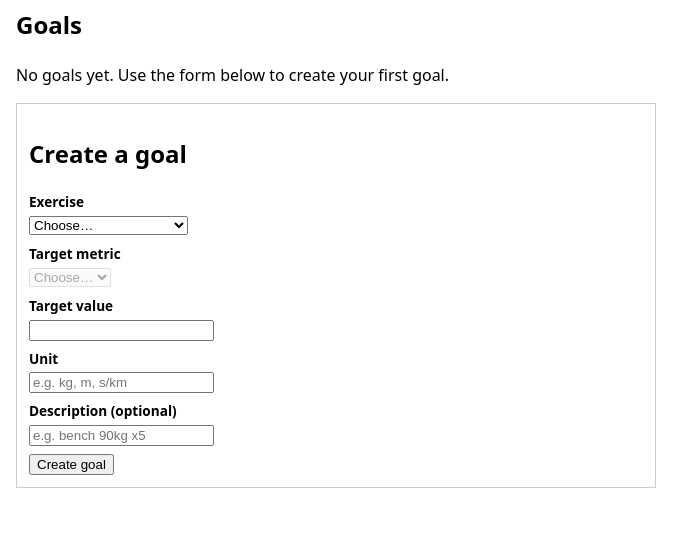
Test: a failed create shows an error and preserves the entered values
The image size is (673, 553).
Expected: the text "No goals yet. Use the form below to create your first goal." is shown, [16,64,449,86]
Select "Bench Press (strength)" in the dropdown labelled "Exercise" at (108, 226), box [29,216,188,235]
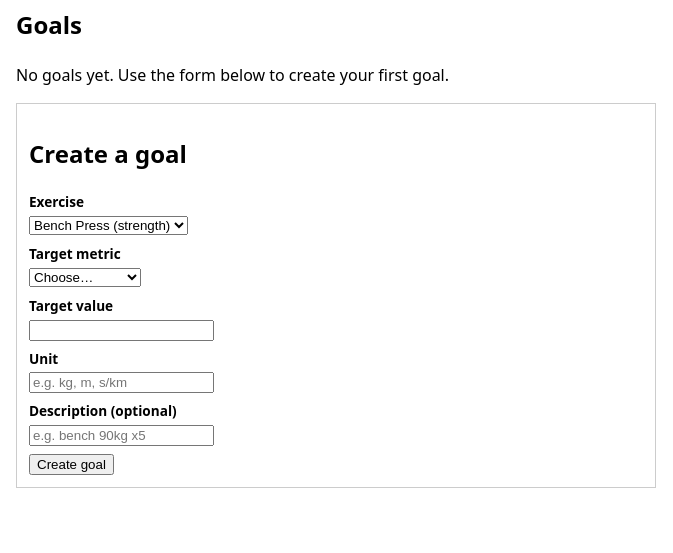
Select "reps" in the dropdown labelled "Target metric" at (85, 278), box [29,268,141,287]
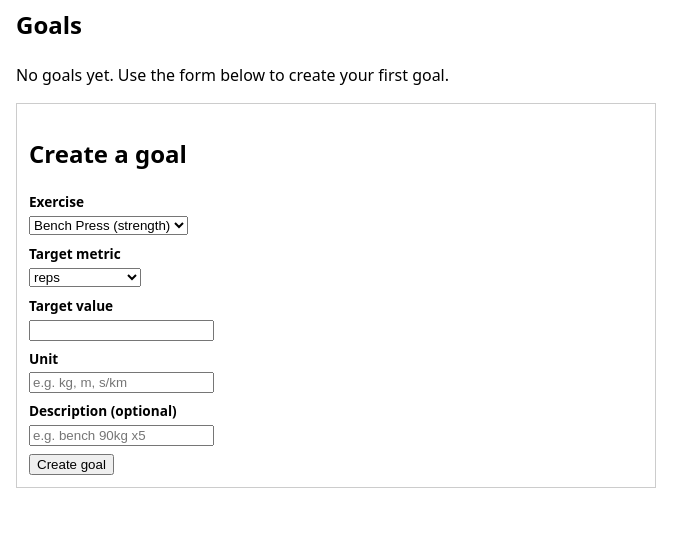
Type "12" into the number field labelled "Target value" at (122, 330), box [29,320,214,341]
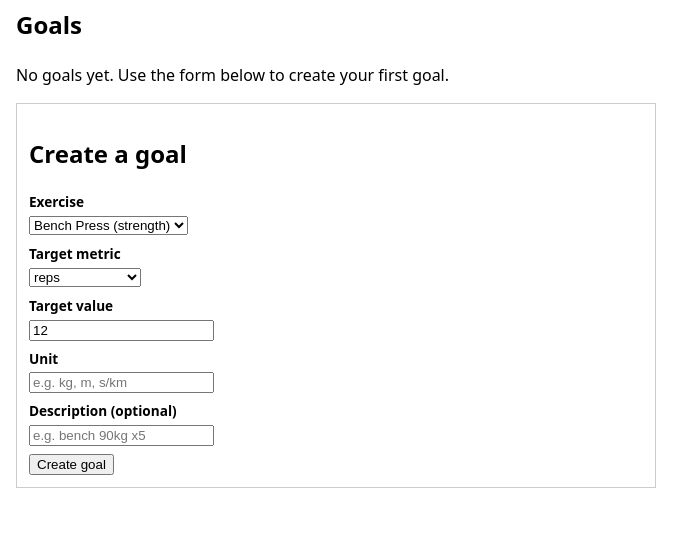
Click the button "Create goal" at (71, 464), box [29,454,114,475]
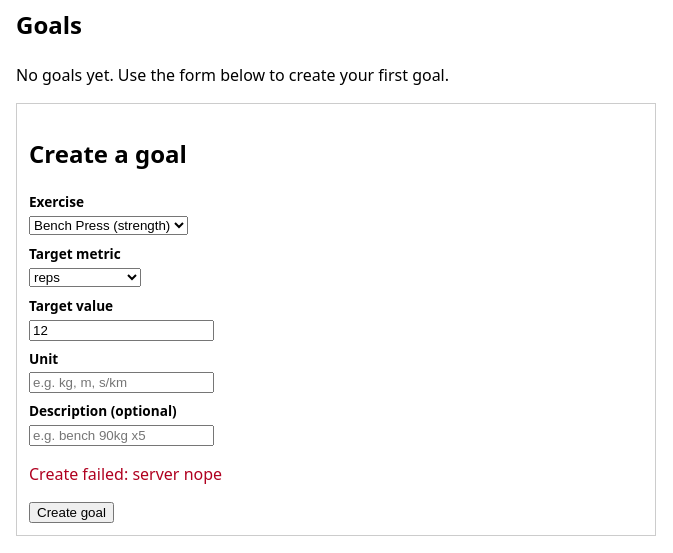
Expected: the text "Create failed: server nope" is shown, [29,463,222,485]
